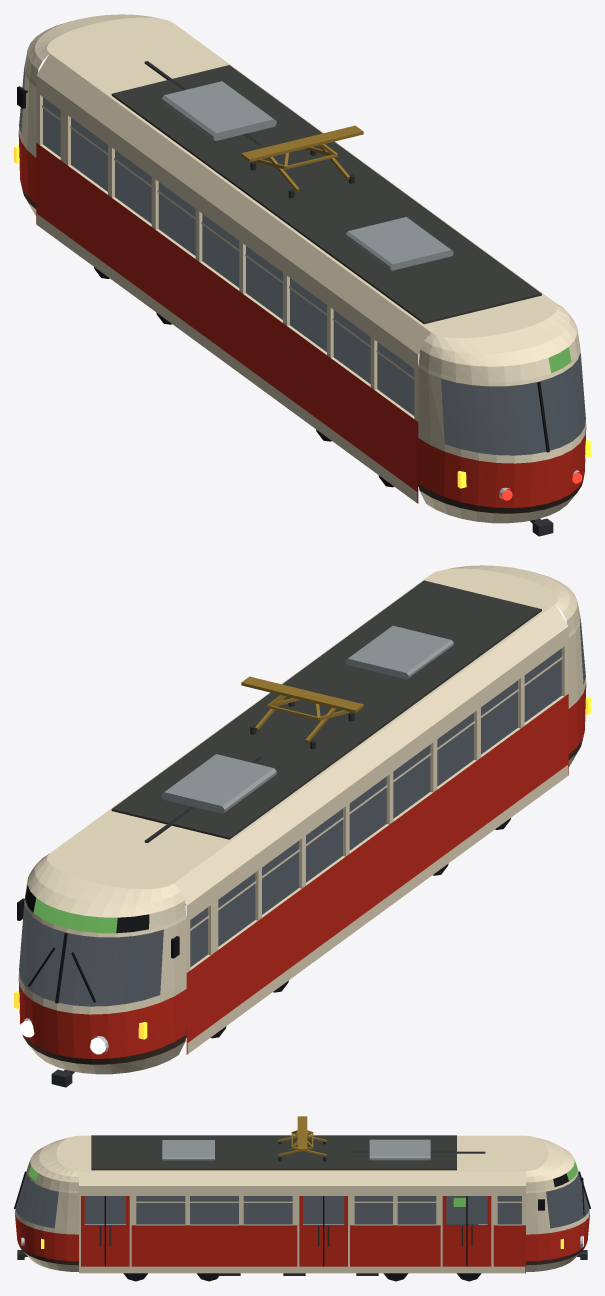
The picture shows the model from 3 angles, top to bottom: view 1: azimuth 30°, elevation 25°; view 2: azimuth 150°, elevation 25°; view 3: azimuth 270°, elevation 25°; orthographic projection. The views are drawn at different scales.
Visible parts, largest first — view 1: t3rp; view 2: t3rp; view 3: t3rp.
Boxes of the visible parts, <box> form: t3rp: <box>14,14,590,536</box>; t3rp: <box>14,565,590,1087</box>; t3rp: <box>14,1116,590,1281</box>.
Bounding box in the file's own units: 2.61 × 3.58 × 14.2.
